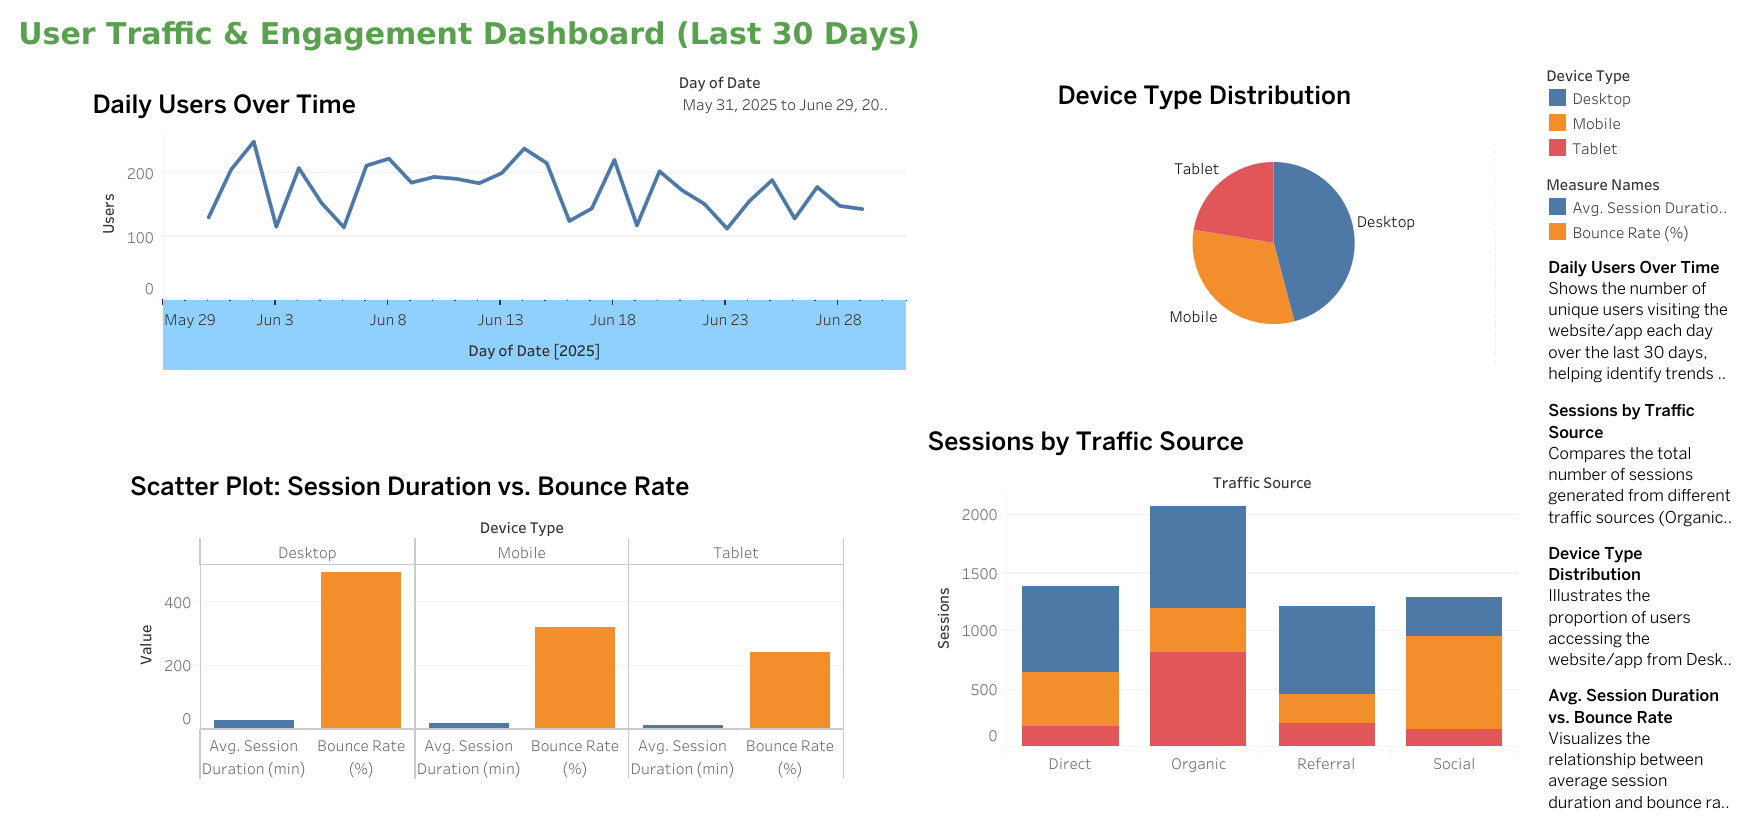

Layout of this report page (visuals, bound fields, positions):
{"tool":"tableau","page":{"name":"Dashboard","canvas":[1000,1000],"units":"permille","ordinal":0},"visuals":[{"type":"title","box":[5,9.3,990,48.7]},{"type":"legend","title":"Sessions by Traffic Source","param":"[federated.1221gqa1i3nmst13fkdmb010pxkx].[none:Device Type:nk]","box":[895,58,100,107.9]},{"type":"filter","title":"Daily Users Over Time","param":"[federated.1221gqa1i3nmst13fkdmb010pxkx].[tdy:Date:qk]","box":[388.1,83.5,122.5,74.2]},{"type":"worksheet","title":"Device Type Distribution","mark":"Pie","box":[601.2,87,252.5,350.4]},{"type":"worksheet","title":"Daily Users Over Time","mark":"Automatic","rows":["Users"],"cols":["Date"],"box":[50,97.5,467.5,348]},{"type":"legend","title":"Avg. Session Duration vs. Bounce Rate","param":"[federated.1221gqa1i3nmst13fkdmb010pxkx].[:Measure Names]","box":[895,165.9,100,83.5]},{"type":"text","box":[895,249.4,100,185.3]},{"type":"text","box":[895,434.7,100,185.3]},{"type":"worksheet","title":"Sessions by Traffic Source","mark":"Automatic","rows":["Sessions"],"cols":["Traffic Source"],"box":[526.9,504.6,341.2,428.1]},{"type":"worksheet","title":"Avg. Session Duration vs. Bounce Rate","mark":"Automatic","cols":["Device Type"],"box":[71.2,559.2,411.9,380.5]},{"type":"text","box":[895,620.1,100,185.3]},{"type":"text","box":[895,805.4,100,185.3]}]}

Visuals, with their boxes on the dashboard's canvas, which has no fixed pixel size, in thousandths of its width and height (x1, y1, x2, y2). These are canvas units, not pixel positions in the 1749x829 screenshot, which may show the page scaled, cropped or inside an application window:
title: 5,9,995,58
"Sessions by Traffic Source" legend: 895,58,995,166
"Daily Users Over Time" filter: 388,84,511,158
"Device Type Distribution" worksheet (Pie marks): 601,87,854,437
"Daily Users Over Time" worksheet: 50,98,518,446
"Avg. Session Duration vs. Bounce Rate" legend: 895,166,995,249
text: 895,249,995,435
text: 895,435,995,620
"Sessions by Traffic Source" worksheet: 527,505,868,933
"Avg. Session Duration vs. Bounce Rate" worksheet: 71,559,483,940
text: 895,620,995,805
text: 895,805,995,991
